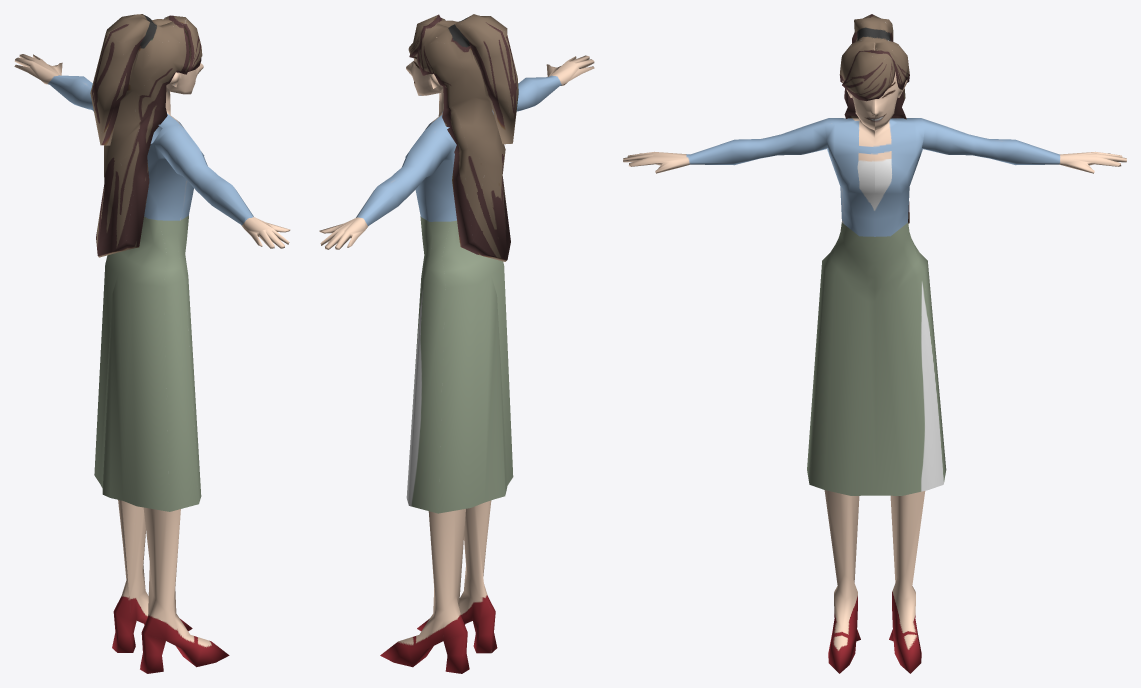
Rendered from bluee.fbx.
The picture shows the model from 3 angles, left to right: view 1: azimuth 30°, elevation 25°; view 2: azimuth 150°, elevation 25°; view 3: azimuth 270°, elevation 25°; orthographic projection. The views are drawn at different scales.
Visible parts, largest first — view 1: noo; view 2: noo; view 3: noo.
Part boxes in pixels (bbox=[...]): noo: bbox=[14, 14, 290, 673]; noo: bbox=[319, 14, 594, 673]; noo: bbox=[623, 14, 1126, 673].
Bounding box in the file's own units: 3577 × 18856 × 13897.
3 materials, 3 textured.
